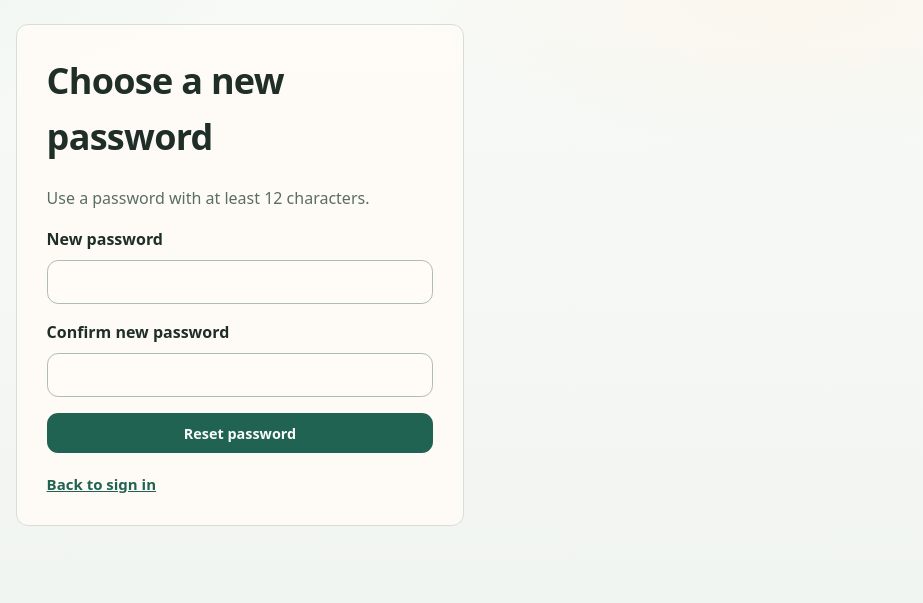
Scenario: ResetPasswordPage › validates the 12 character password policy
Step 1. Type "short" into the password field labelled "New password" → (240, 282), box [47,260,433,304]
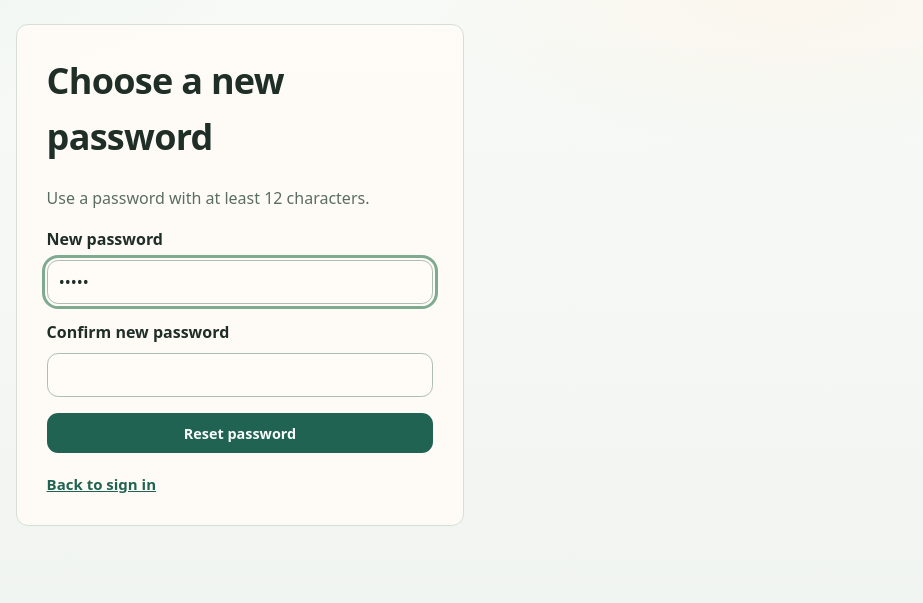
Step 2. Click the button "Reset password" → (240, 433), box [47,413,433,453]
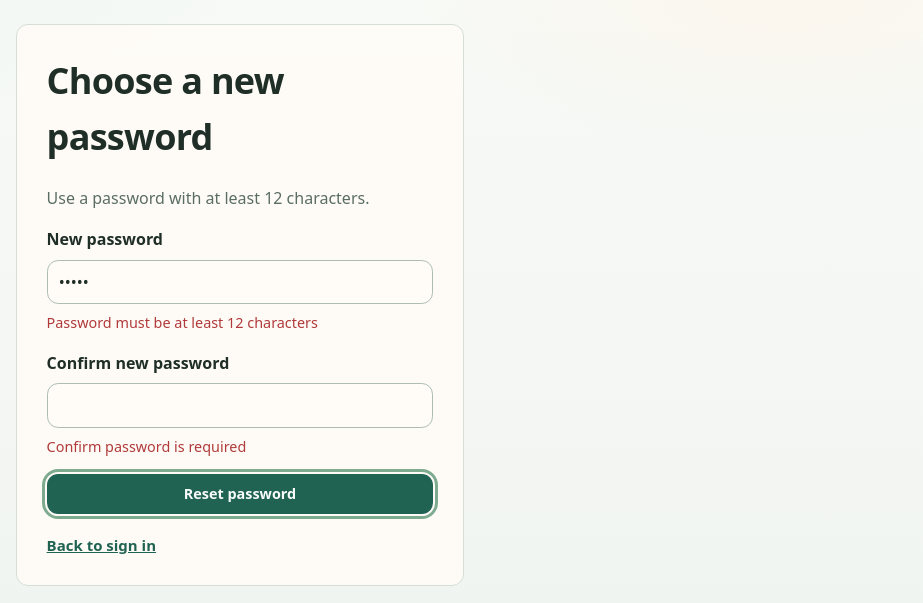
Now the text "Password must be at least 12 characters" is shown, box [47,313,318,332]
